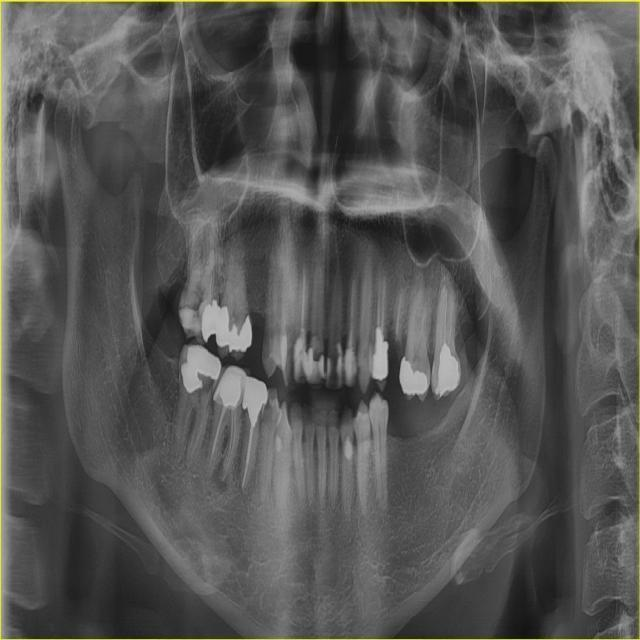Caries: (198, 372, 214, 396), (262, 397, 273, 421)
Crown: (214, 366, 250, 410)
Filling: (181, 344, 221, 395), (215, 306, 252, 353), (435, 342, 460, 399), (178, 299, 210, 341), (242, 377, 268, 426), (399, 357, 428, 395), (372, 327, 389, 381), (294, 336, 312, 383), (201, 300, 218, 343), (306, 348, 325, 385), (344, 344, 357, 388), (336, 340, 342, 388), (344, 436, 353, 459), (275, 434, 282, 452), (327, 356, 332, 380)
Missing teeth: (388, 412, 424, 437)
Periapical lesion: (211, 456, 232, 497)
Root Canal Treatment: (208, 404, 227, 469), (227, 406, 237, 469), (348, 279, 354, 347), (442, 289, 448, 345), (395, 290, 402, 335), (228, 404, 233, 460), (301, 262, 305, 328), (448, 301, 453, 346), (381, 278, 385, 331), (377, 276, 380, 327), (242, 464, 248, 488), (440, 310, 442, 347)
